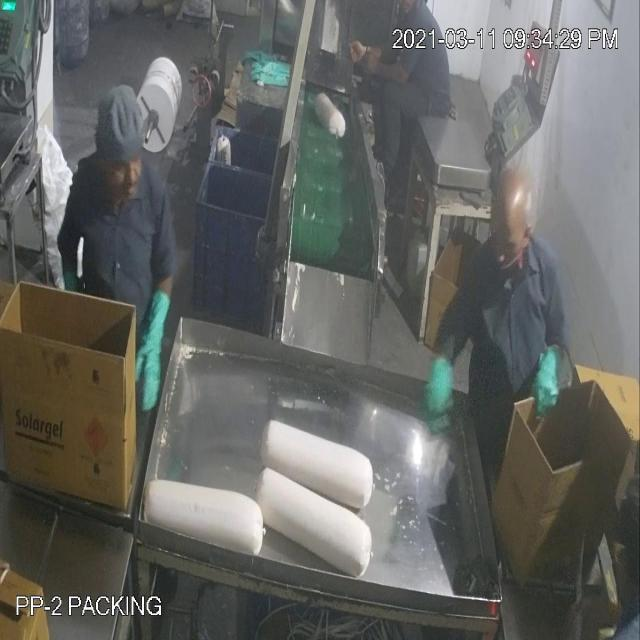No_Gloves: (46, 50, 384, 354)
